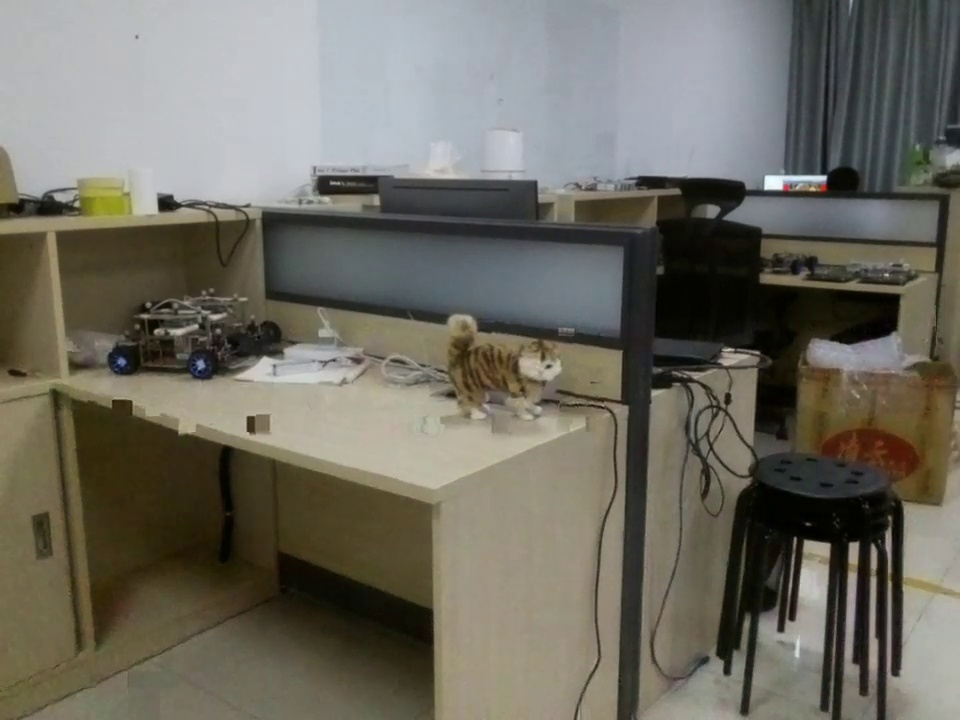cat: (437, 306, 581, 432)
